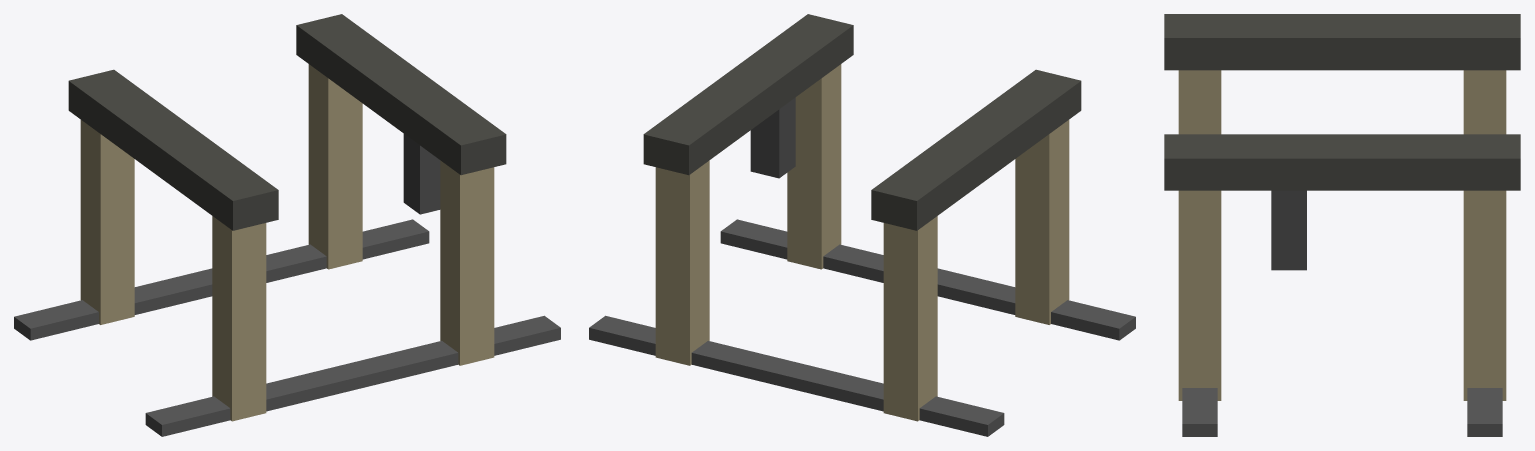
Rendered from crane.glb.
The picture shows the model from 3 angles, left to right: view 1: azimuth 30°, elevation 25°; view 2: azimuth 150°, elevation 25°; view 3: azimuth 270°, elevation 25°; orthographic projection. The views are drawn at different scales.
Size of the model in its own units: 14 by 7.6 by 10.
